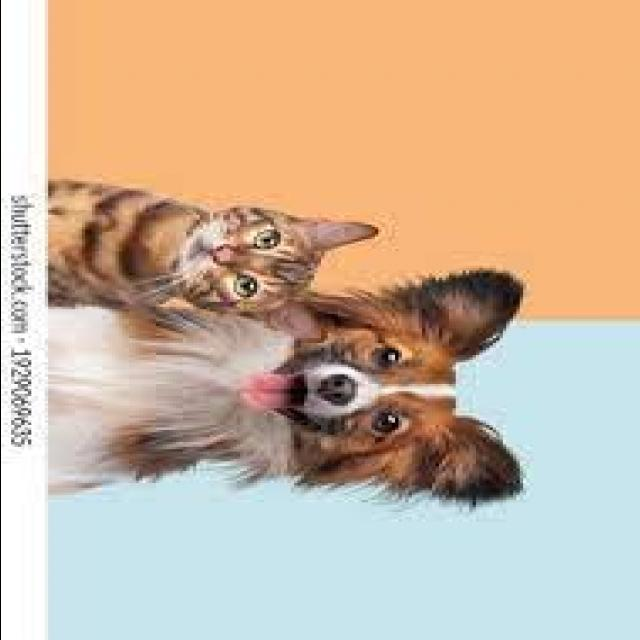cat: (45, 160, 384, 348)
dog: (44, 256, 543, 508)
